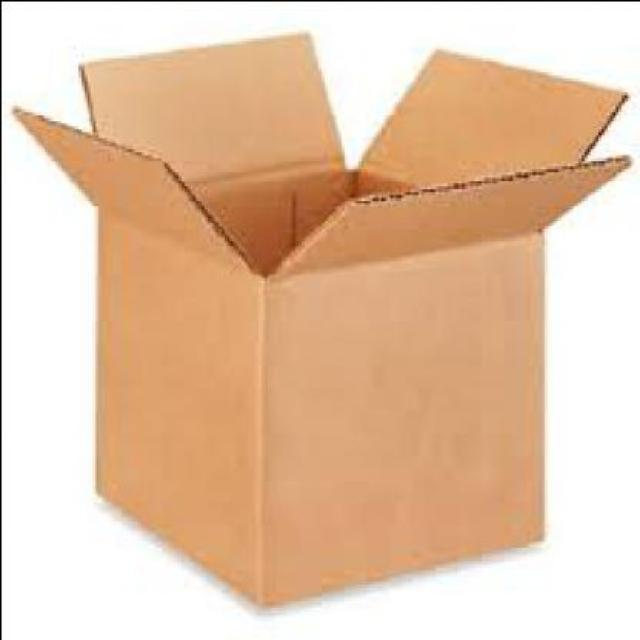cardboard: (9, 26, 629, 605)
